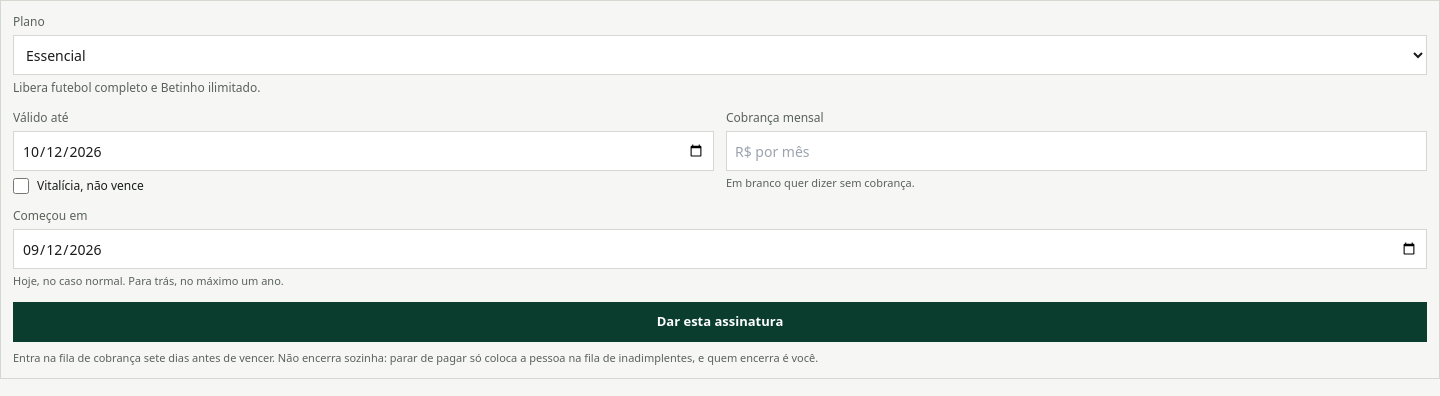
Scenario: vitalícia › marcada, o campo de data desliga
Click the checkbox named "Assinatura vitalícia".
click(21, 186)  # box [13,178,29,194]
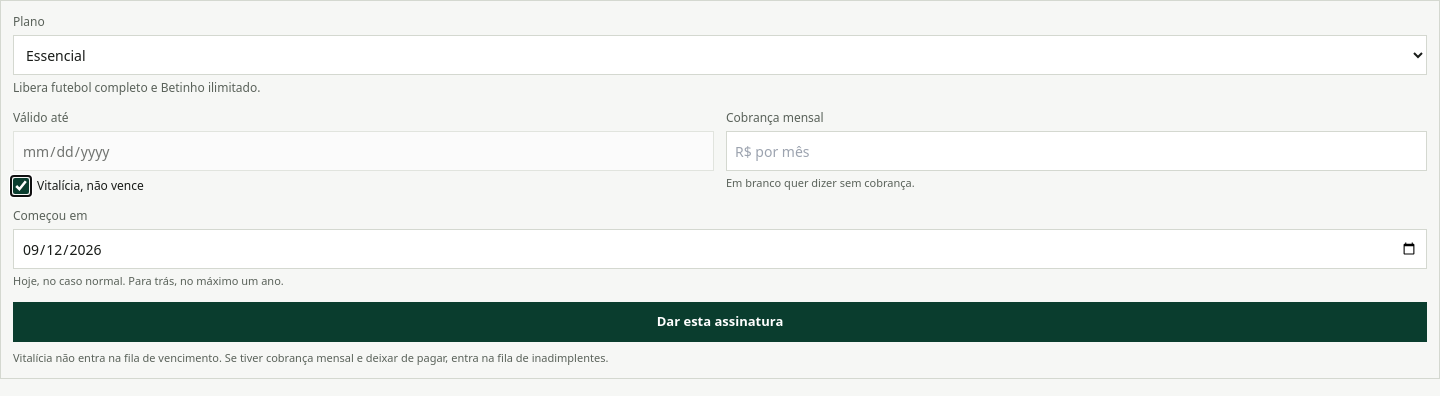
Result: the date field named "Assinatura manual válida até" is disabled at [13,131,714,171]
